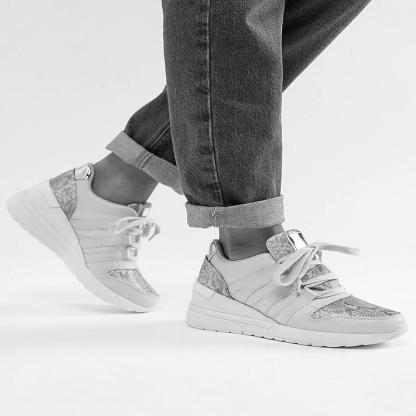ankle: (235, 283, 241, 288), (49, 183, 54, 187)
heel: (10, 209, 15, 212), (196, 293, 201, 296)
left_foot: (8, 163, 163, 313)
pinky: (351, 324, 363, 330), (152, 288, 156, 291)
right_foot: (187, 230, 409, 349)
toe: (129, 292, 138, 300), (393, 314, 401, 318)
